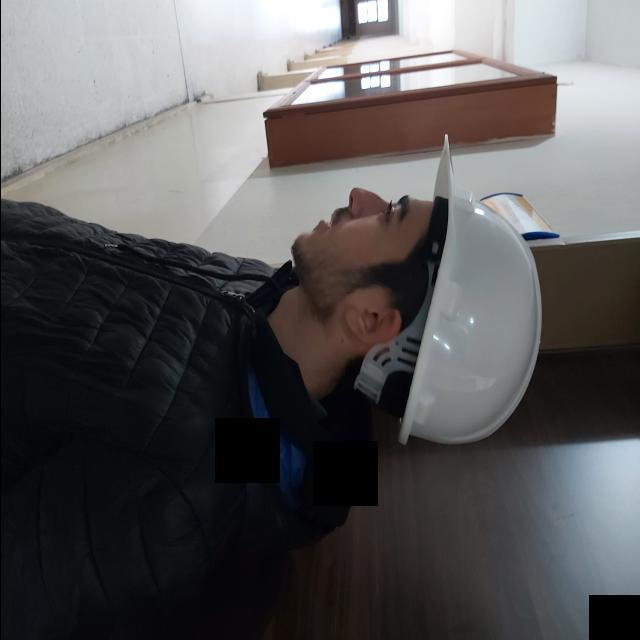white helmet: (391, 128, 548, 451)
